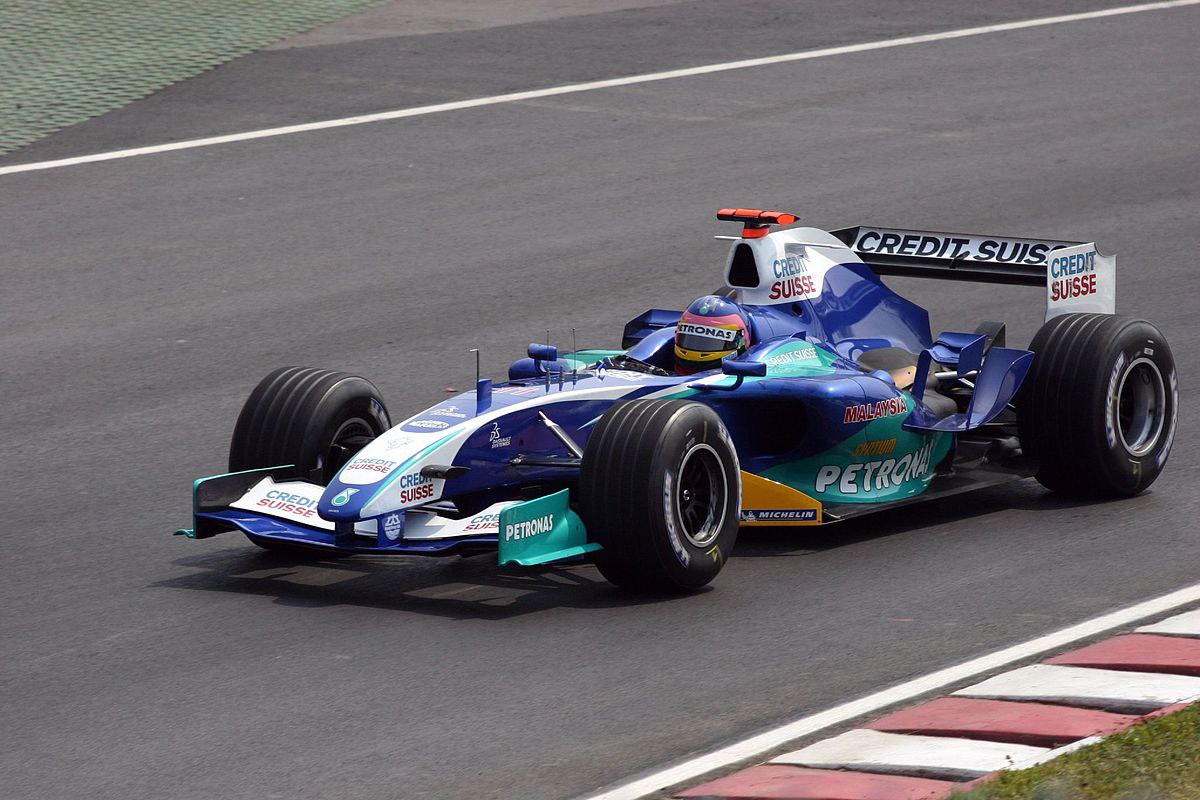F1 Car: (180, 202, 1180, 610)
